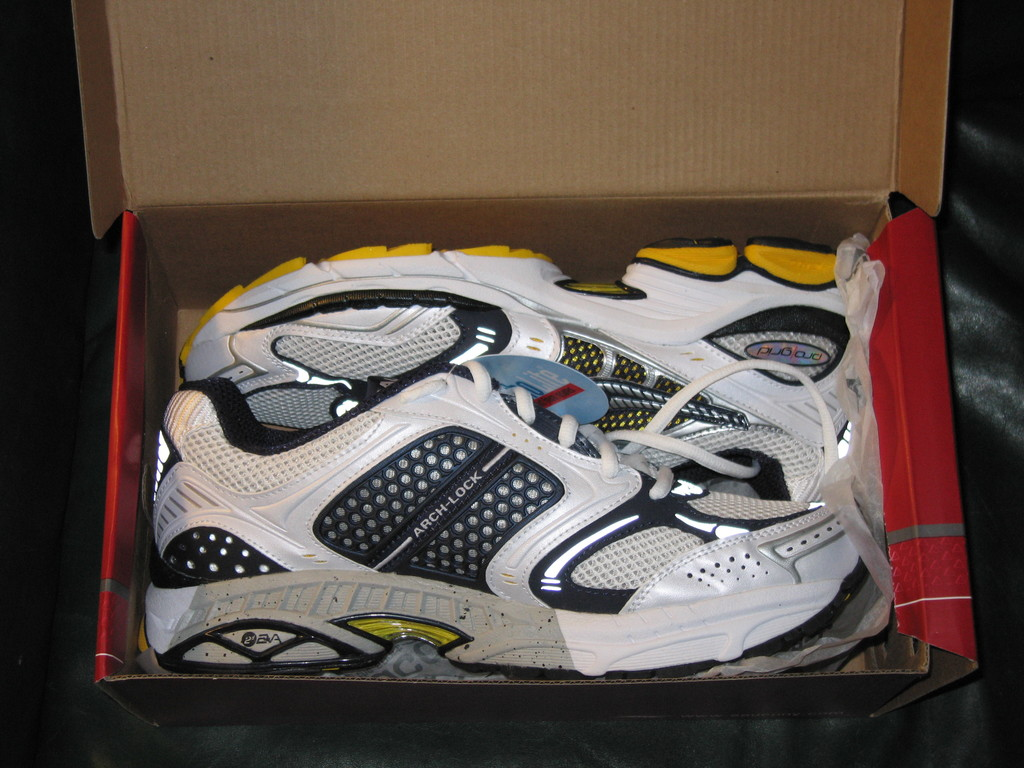Footwear: (141, 353, 891, 675), (170, 241, 851, 461)
